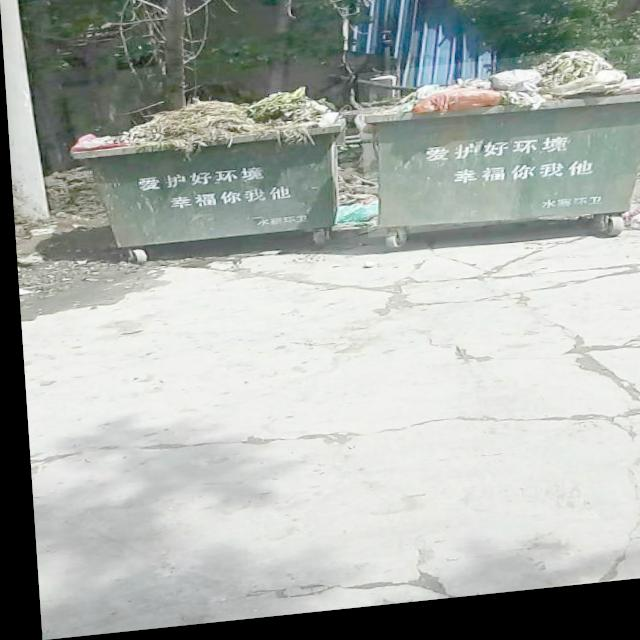overflow: (356, 58, 640, 246), (70, 90, 344, 253)
